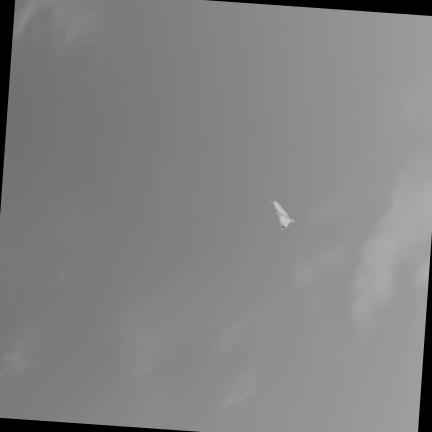Shahed: (270, 197, 294, 228)
